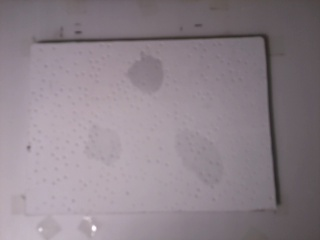Water_detected: (85, 126, 117, 163), (177, 130, 209, 166), (127, 61, 165, 90)
